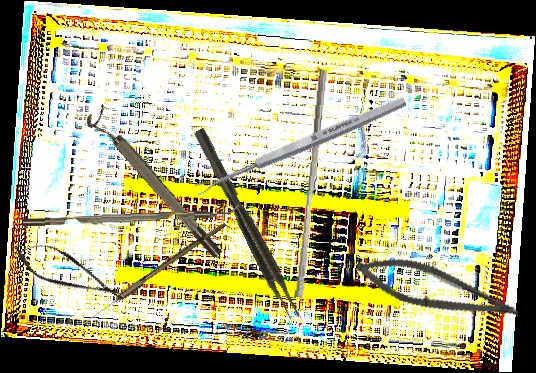Chopper: (22, 200, 240, 227)
Fixation Ring: (82, 103, 226, 267)
Micro Scissor: (351, 247, 525, 330), (8, 232, 129, 312)
Pusher: (294, 68, 327, 299)
Surgical Spoon: (193, 94, 408, 197), (79, 219, 227, 329)
Tissue Forceps: (193, 124, 303, 324)
